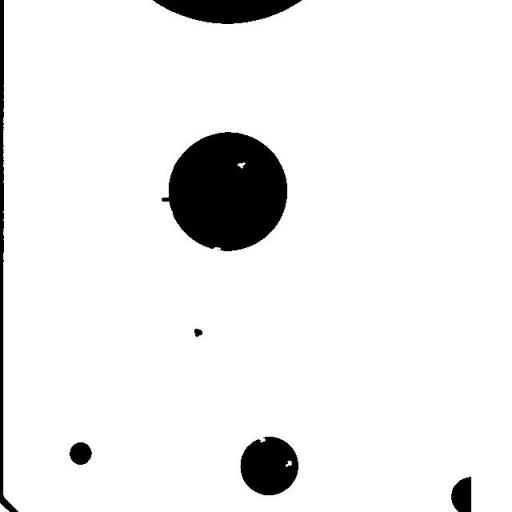copper: (186, 321, 210, 344)
mousebite: (250, 430, 273, 450), (206, 239, 228, 258)
pin-hole: (230, 154, 252, 176), (278, 453, 299, 474)
spur: (154, 190, 178, 208)
